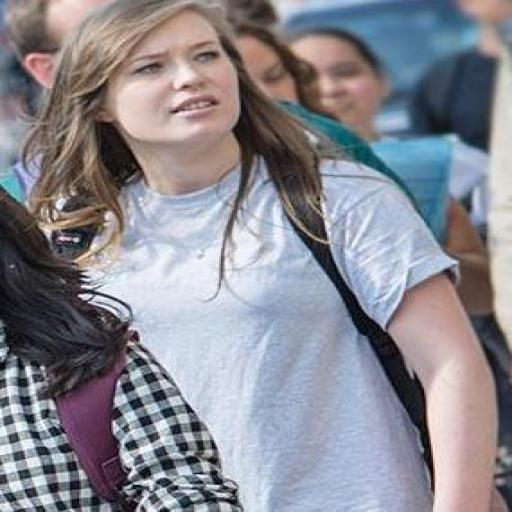person: (26, 0, 495, 511), (0, 190, 242, 511), (293, 29, 470, 173), (410, 0, 511, 150), (4, 0, 107, 112)
